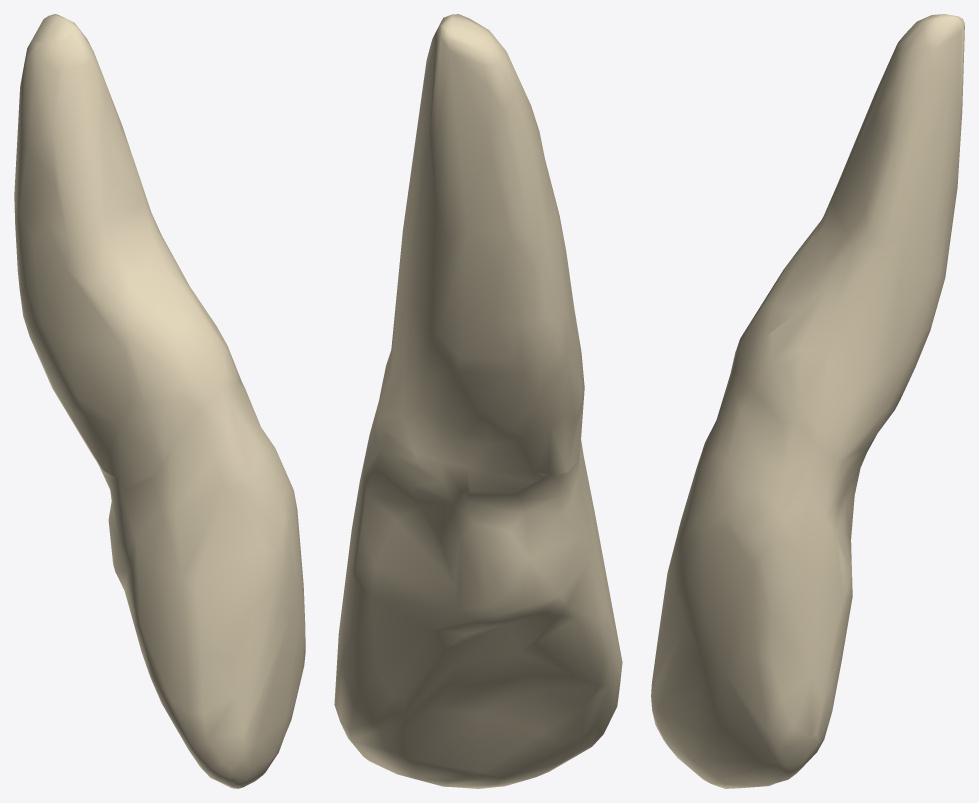
File: esqueleto-upper-lateral-incisor-l.glb
3 renders of one model, left to right at view 1: azimuth 30°, elevation 25°; view 2: azimuth 150°, elevation 25°; view 3: azimuth 270°, elevation 25°, orthographic. The views are drawn at different scales.
Parts seen in each view (by area): view 1: Upper lateral incisor.l; view 2: Upper lateral incisor.l; view 3: Upper lateral incisor.l.
Boxes of the visible parts, bbox=[...] form: Upper lateral incisor.l: bbox=[14, 14, 305, 788]; Upper lateral incisor.l: bbox=[334, 14, 622, 788]; Upper lateral incisor.l: bbox=[651, 14, 964, 788].
Size of the model in its own units: 0.00936 by 0.0282 by 0.011.
